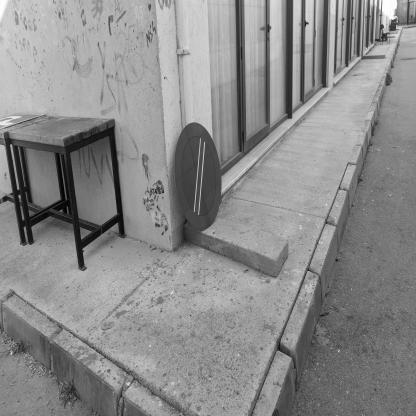No Waiting: (175, 122, 223, 228)
